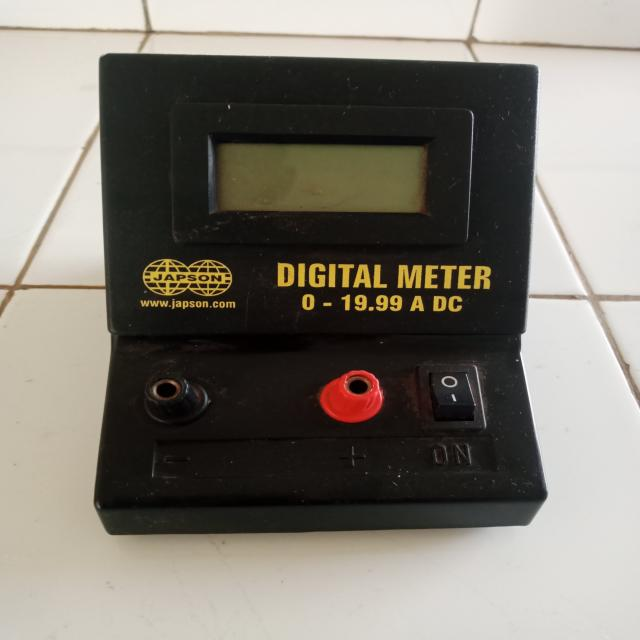Digital Ammeter: (70, 45, 558, 540)
